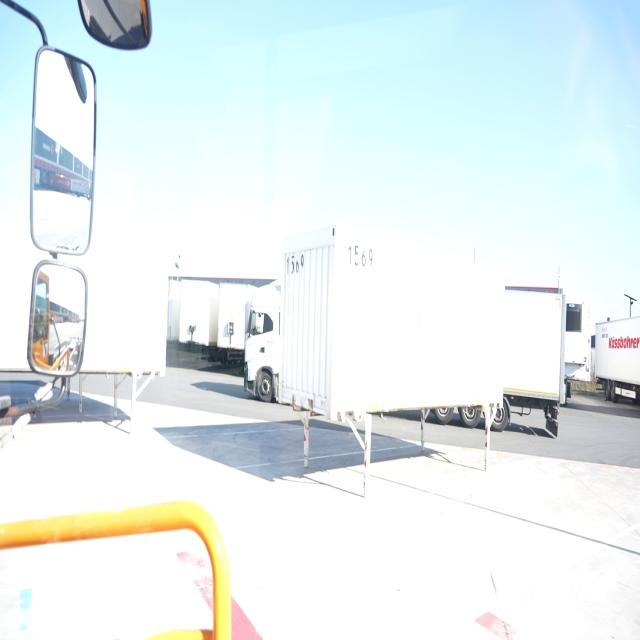Code: (341, 239, 378, 276)
